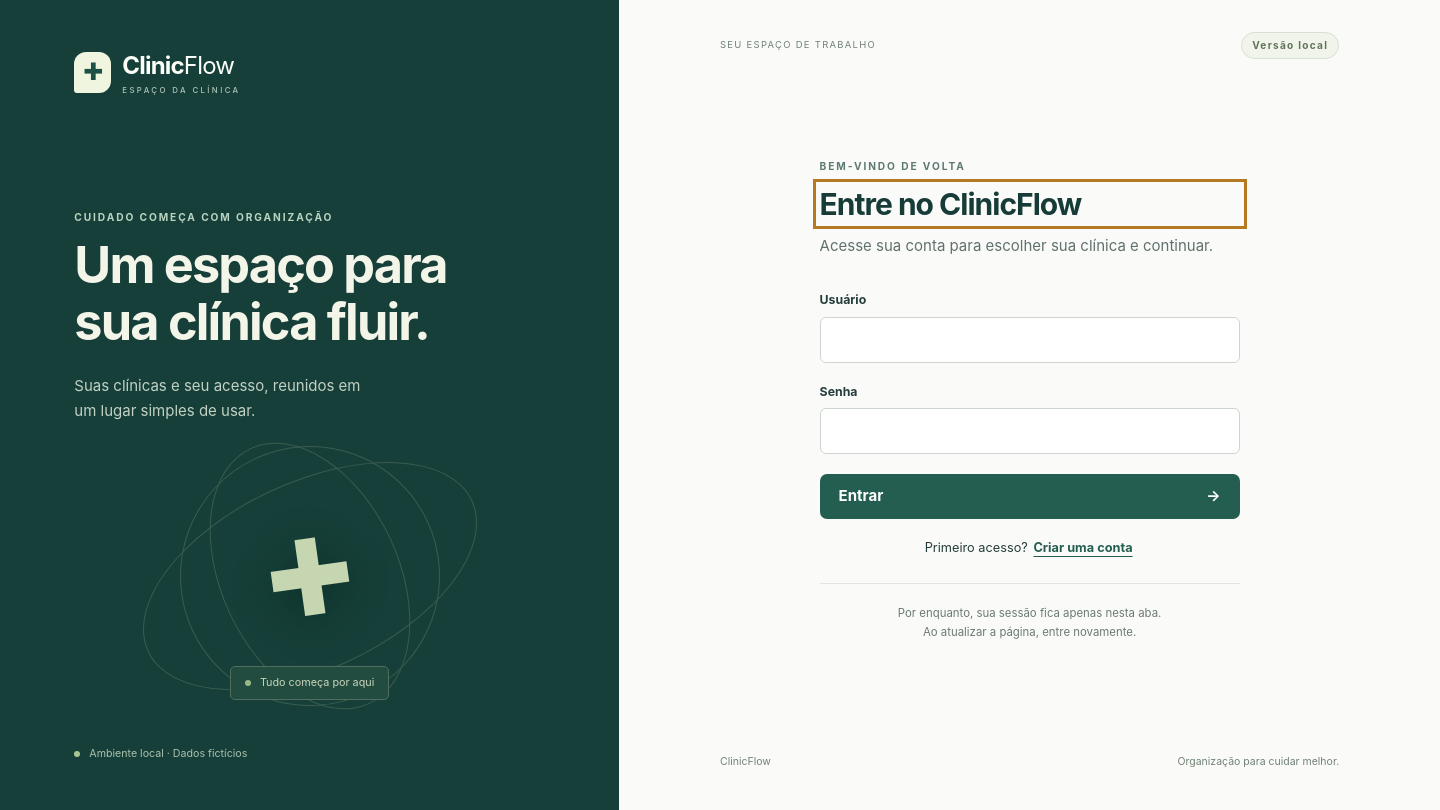
Test case: authentication and session boundaries › keeps invalid login generic, translates the error and clears the password
Type "synthetic" into the field labelled "Usuário" at (1030, 340), box [820,317,1240,363]
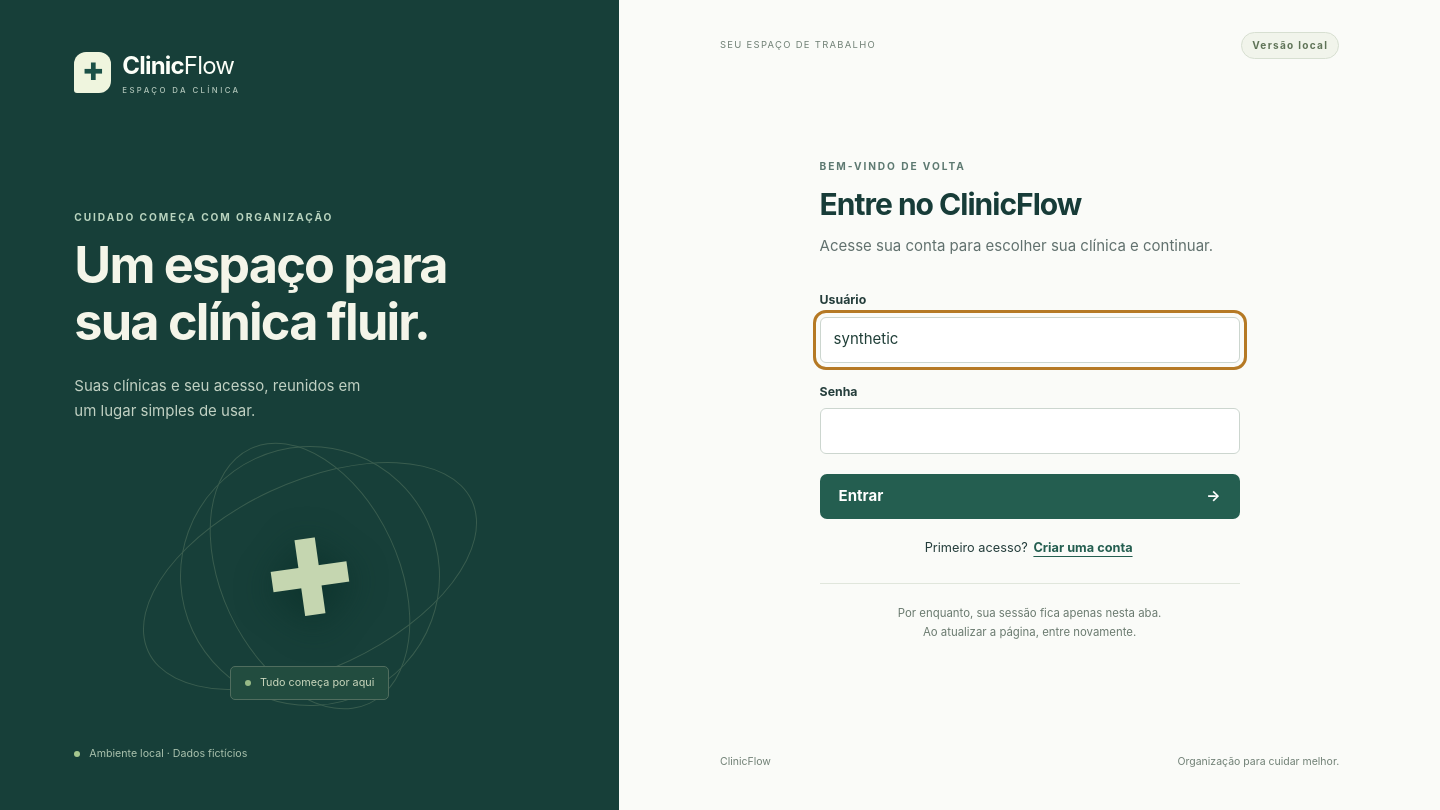
Type "Fictitious-Password-936!" into the password field labelled "Senha" at (1030, 431), box [820,408,1240,454]
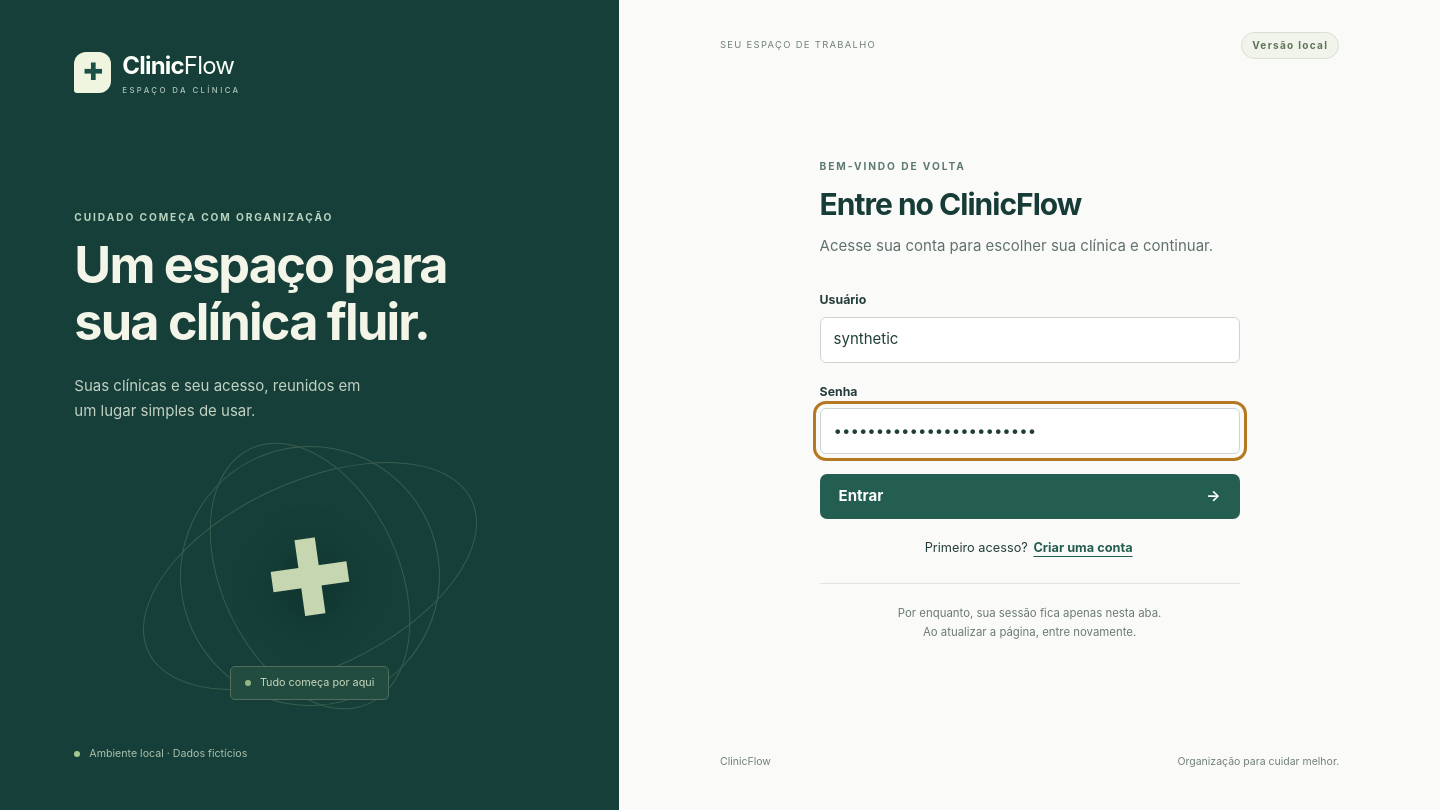
Click the button "Entrar →" at (861, 496), box [820,474,1240,519]
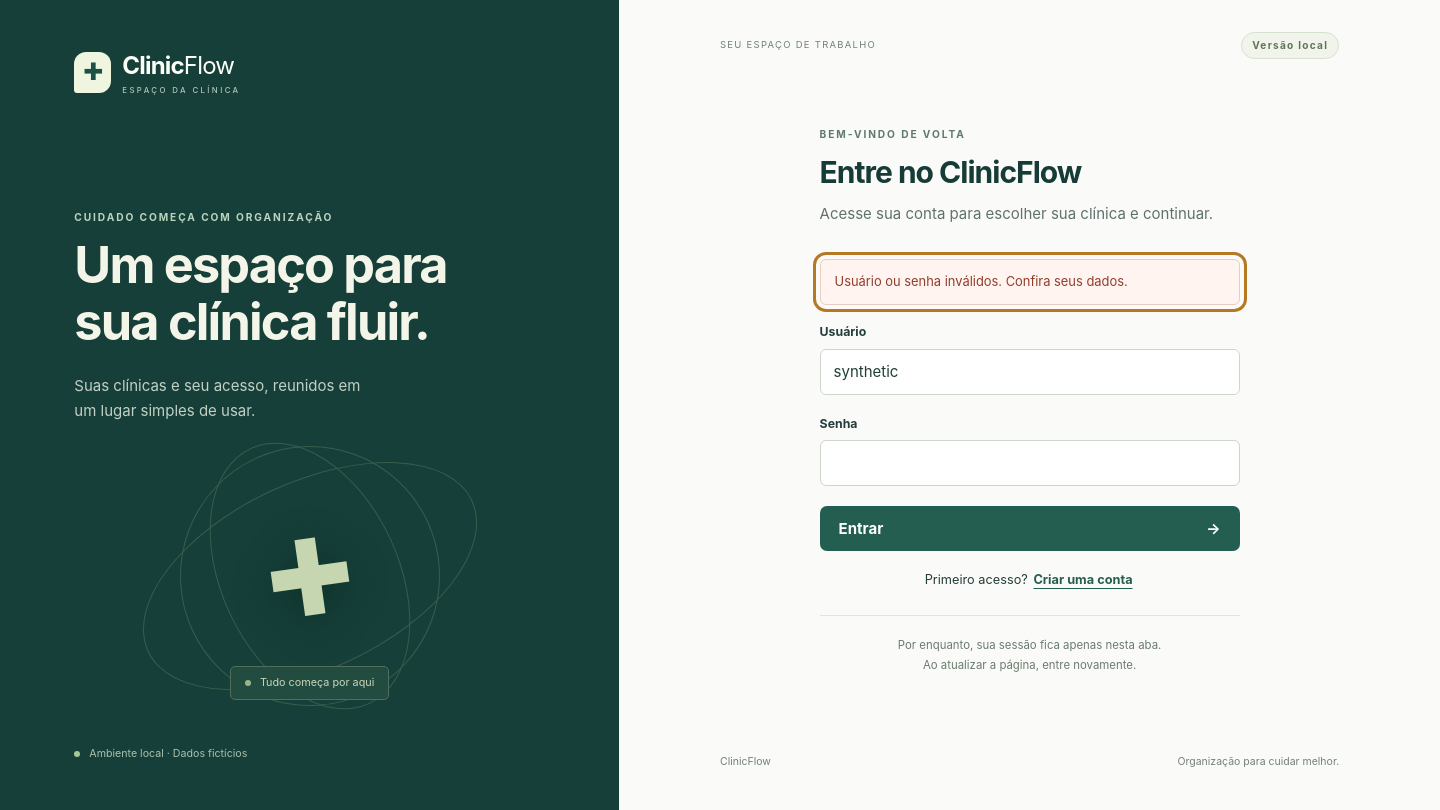
Expected: the message shows "Usuário ou senha inválidos", [835,274,1128,289]
Expected: the password field labelled "Senha" is empty, [820,440,1240,486]
